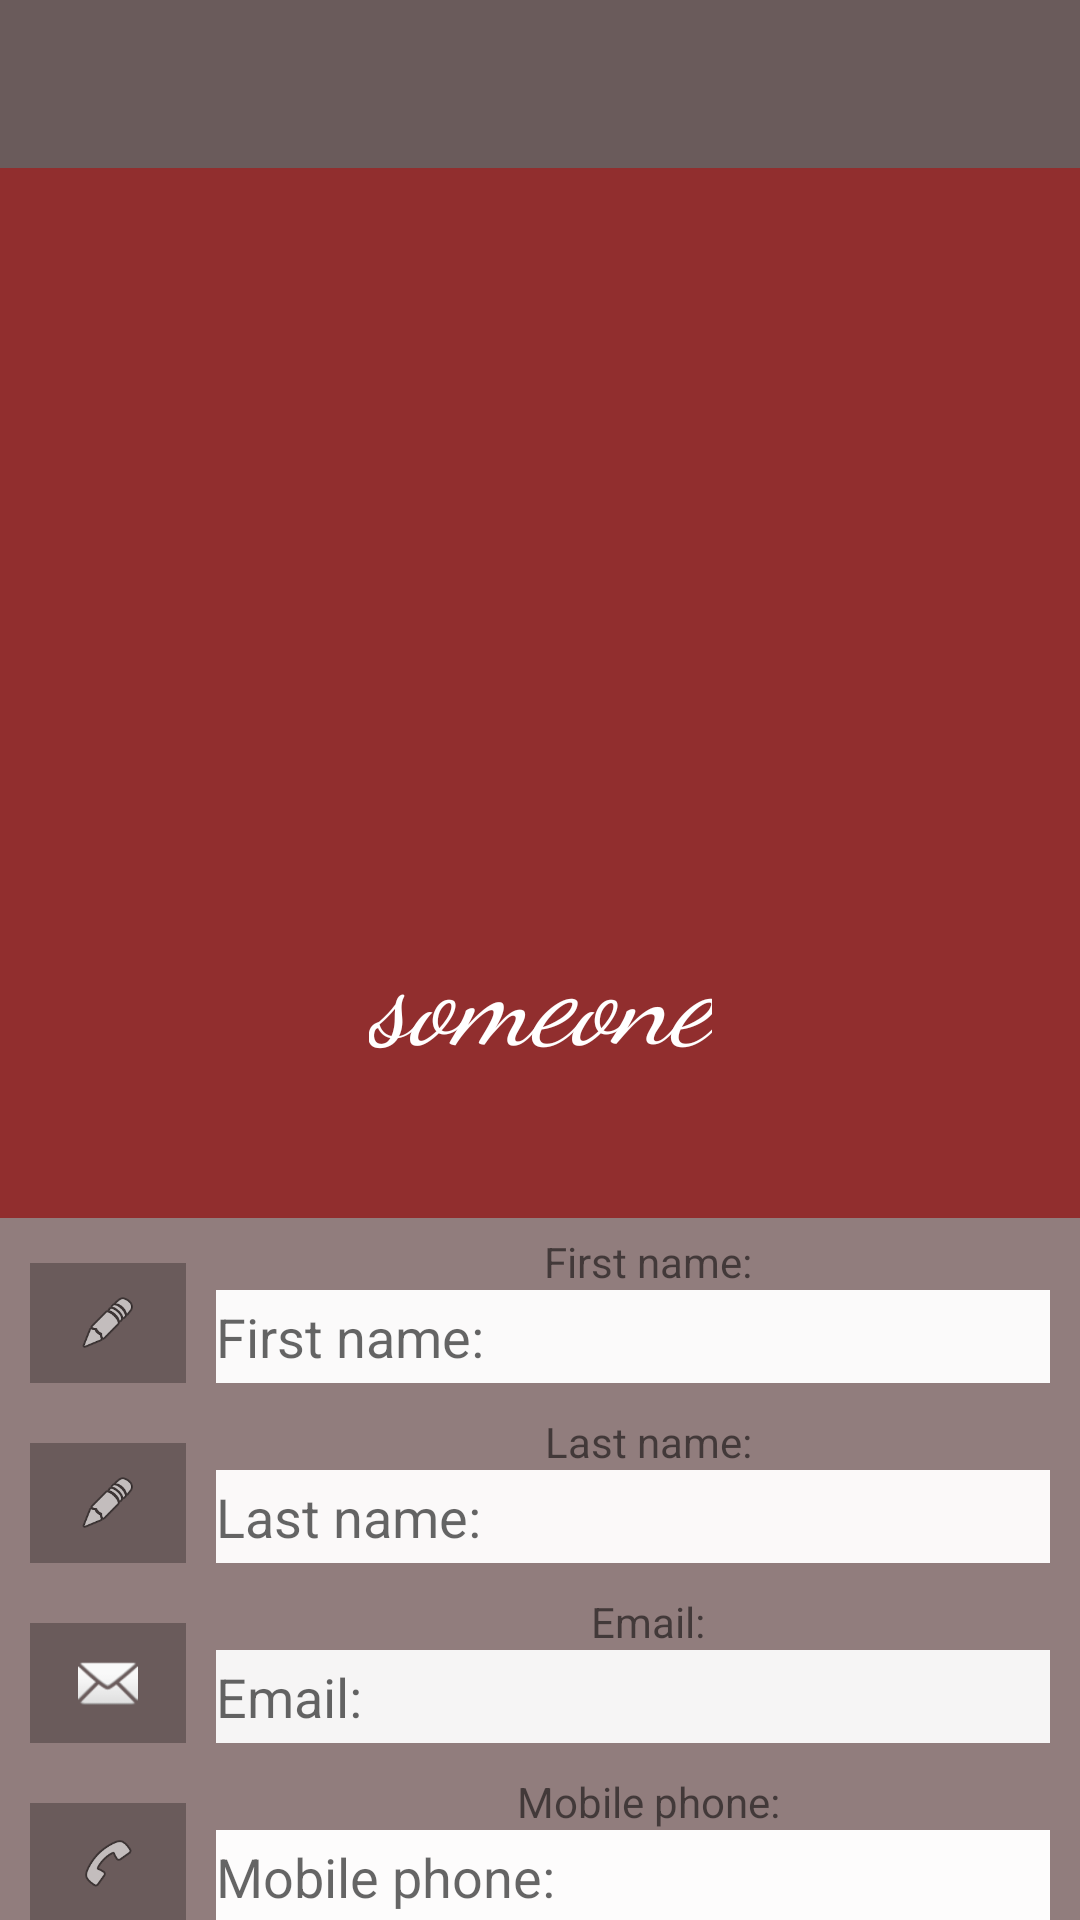

Named icons in this screenshot (1080w x 1920h) and their centers, point (x, y):
call: point (108, 1861)
edit: point (108, 1323), point (108, 1503)
